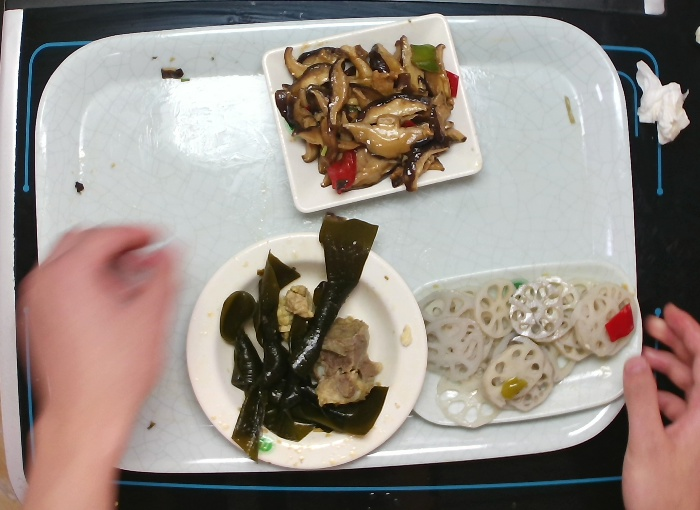WCQzf-Bai_Se_Si_Fang_Die: (257, 5, 487, 217)
WCQzf-Kuan_Bian_Yuan_Die: (180, 224, 431, 472)
WCQzf-Tuo_Yuan_Pan: (402, 256, 646, 432)
